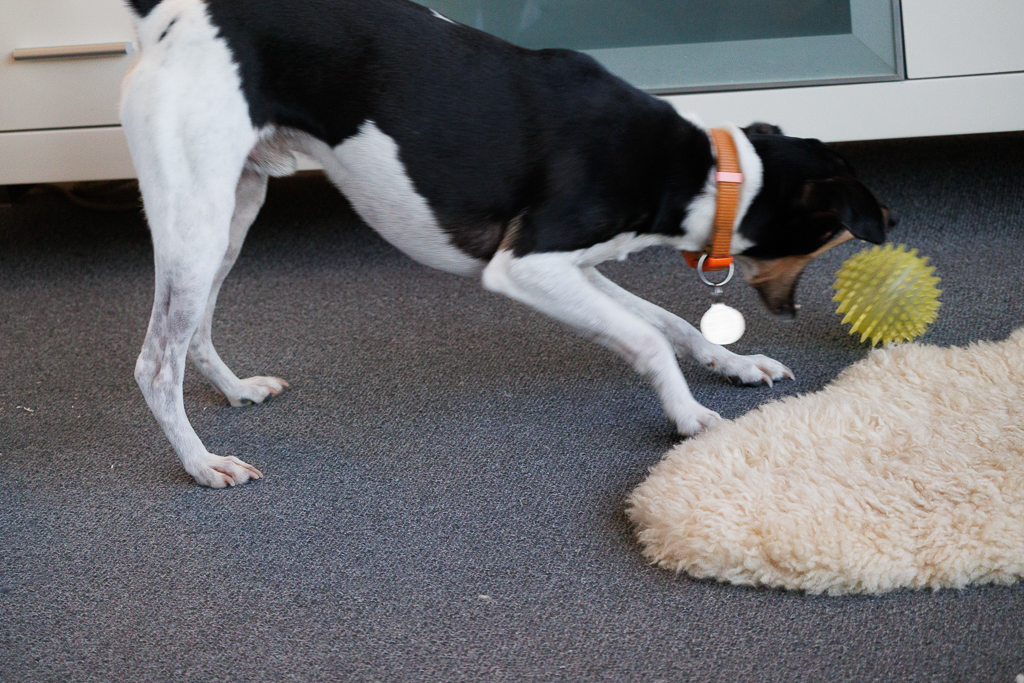Dog: (100, 0, 913, 497)
